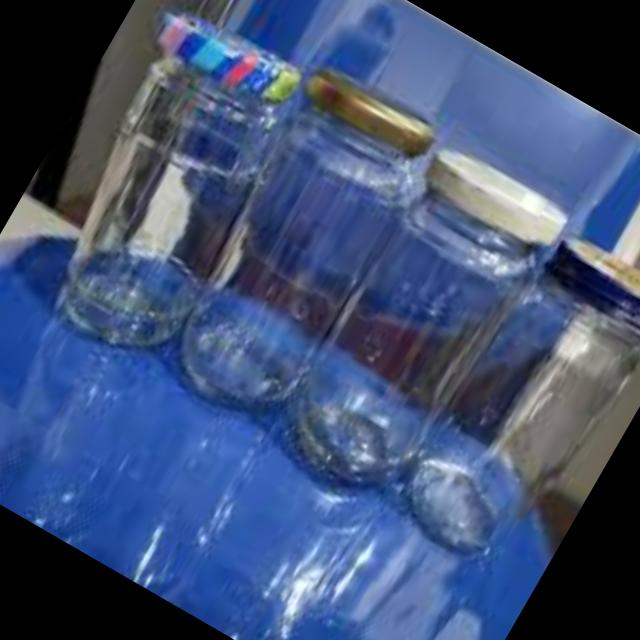ToplesKaca: (251, 108, 571, 512), (9, 0, 324, 370), (146, 56, 447, 427), (395, 215, 640, 587)
